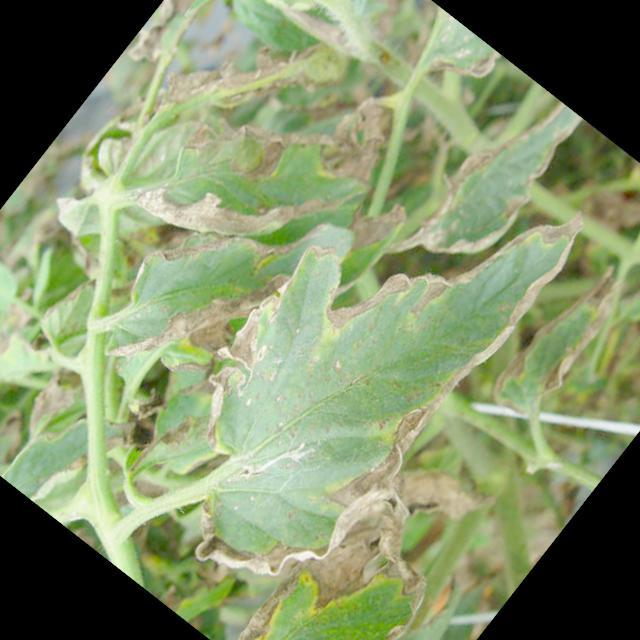Tomato bacterial spot leaf: (87, 89, 622, 640)
